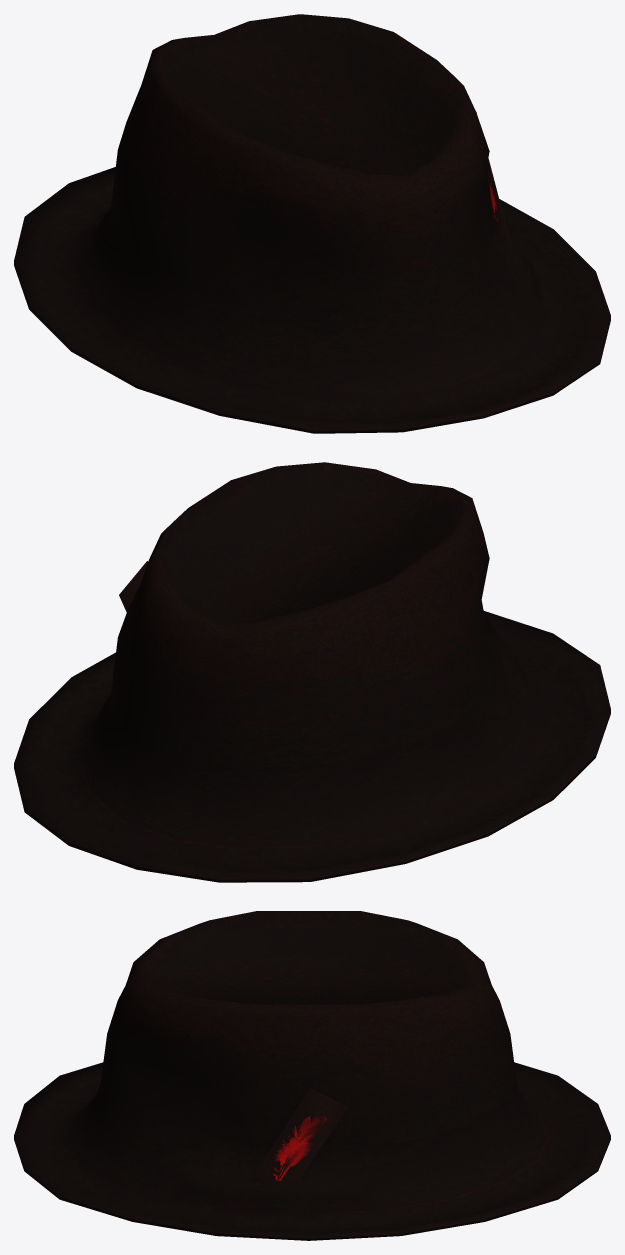
The model's file is hat6.glb.
3 renders of one model, top to bottom at view 1: azimuth 30°, elevation 25°; view 2: azimuth 150°, elevation 25°; view 3: azimuth 270°, elevation 25°, orthographic. The views are drawn at different scales.
Visible parts, largest first — view 1: pCylinder1; view 2: pCylinder1; view 3: pCylinder1.
Part boxes in pixels (x1,y1,x2,y2): pCylinder1: (14,14,610,433); pCylinder1: (14,462,610,882); pCylinder1: (14,911,610,1240).
Bounding box in the file's own units: 17.01 × 7.4 × 21.2.
1 material, 1 textured.
